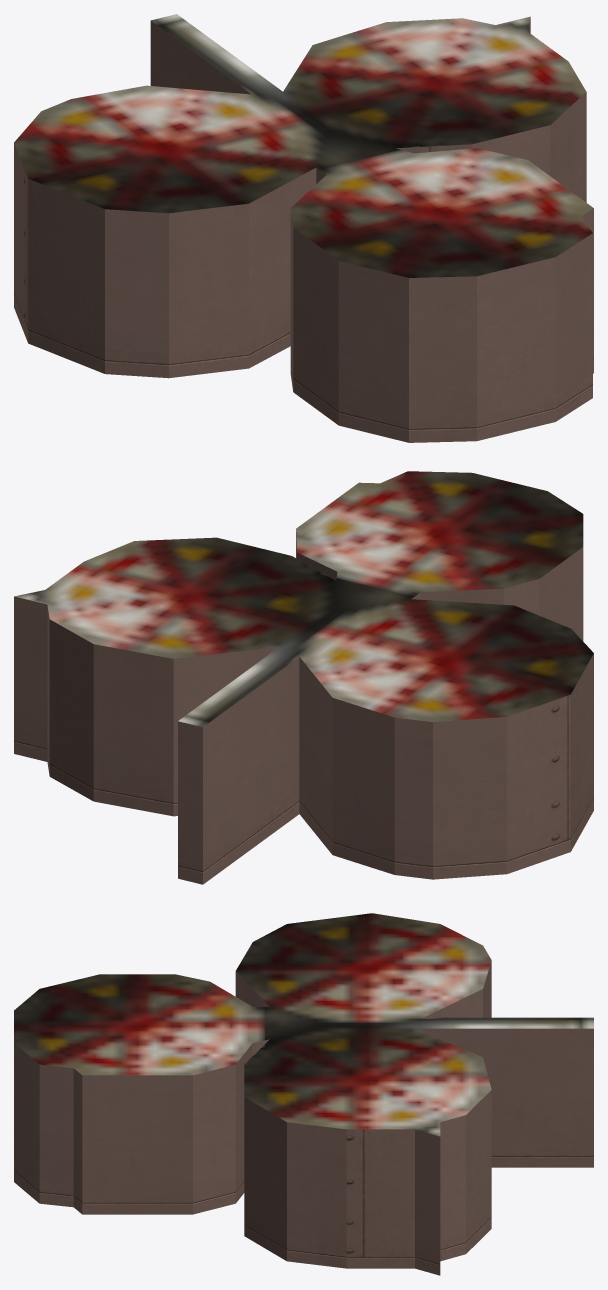
The model's file is fuel_tank_heavy_03.glb.
3 renders of one model, top to bottom at view 1: azimuth 30°, elevation 25°; view 2: azimuth 150°, elevation 25°; view 3: azimuth 270°, elevation 25°, orthographic. The views are drawn at different scales.
Visible parts, largest first — view 1: buildings/saxarba/fuel_tanks/fuel_tank_heavy_03; view 2: buildings/saxarba/fuel_tanks/fuel_tank_heavy_03; view 3: buildings/saxarba/fuel_tanks/fuel_tank_heavy_03.
Boxes of the visible parts, box(x1,y1,x2,y2) form: buildings/saxarba/fuel_tanks/fuel_tank_heavy_03: box(14, 14, 593, 442); buildings/saxarba/fuel_tanks/fuel_tank_heavy_03: box(14, 471, 593, 884); buildings/saxarba/fuel_tanks/fuel_tank_heavy_03: box(14, 913, 593, 1275).
Bounding box in the file's own units: 62 × 18 × 68.
